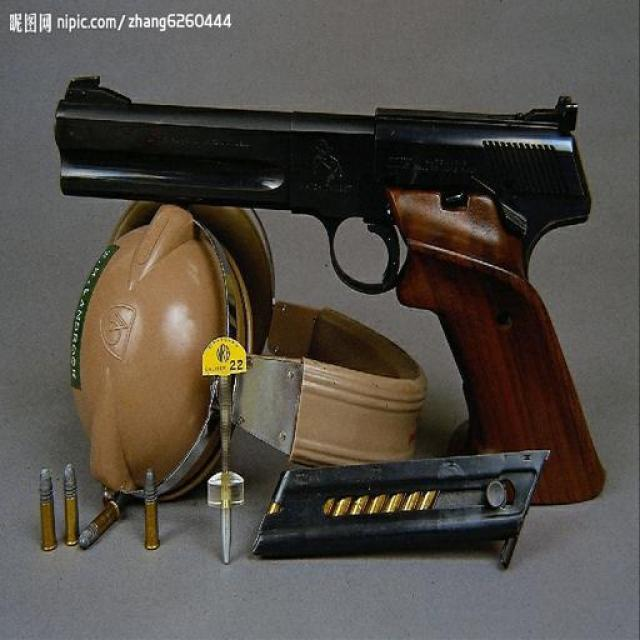pistol: (50, 69, 607, 515)
